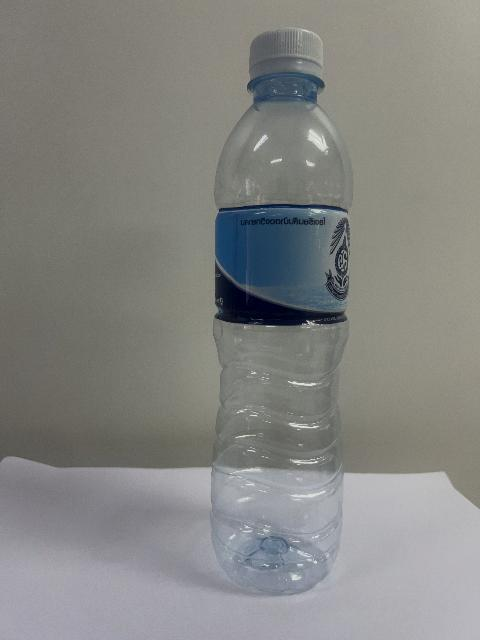bottle: (210, 28, 352, 594)
